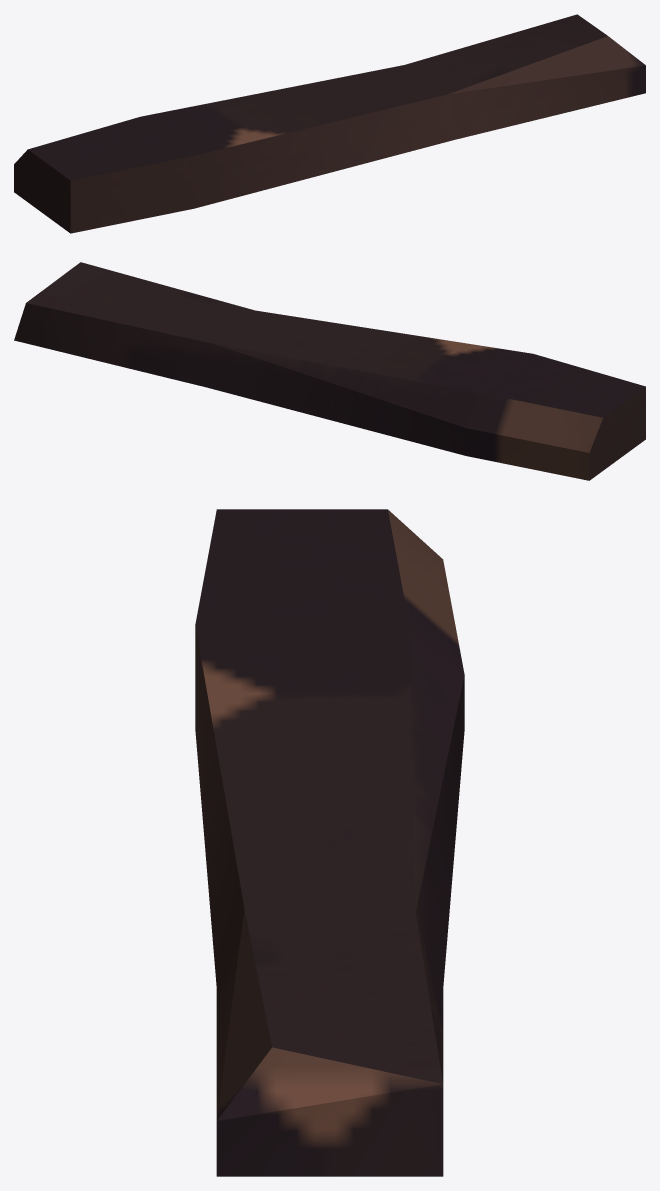
The model's file is bridge_07.FBX.
3 views of the same model, one above another, from view 1: azimuth 30°, elevation 25°; view 2: azimuth 150°, elevation 25°; view 3: azimuth 270°, elevation 25° (orthographic). The views are drawn at different scales.
Parts seen in each view (by area): view 1: bridge_07; view 2: bridge_07; view 3: bridge_07.
Part boxes in pixels (x1,y1,x2,y2): bridge_07: (14, 14, 645, 233); bridge_07: (14, 262, 645, 480); bridge_07: (195, 509, 464, 1176).
Size of the model in its own units: 3.6 by 0.3166 by 0.7295.
